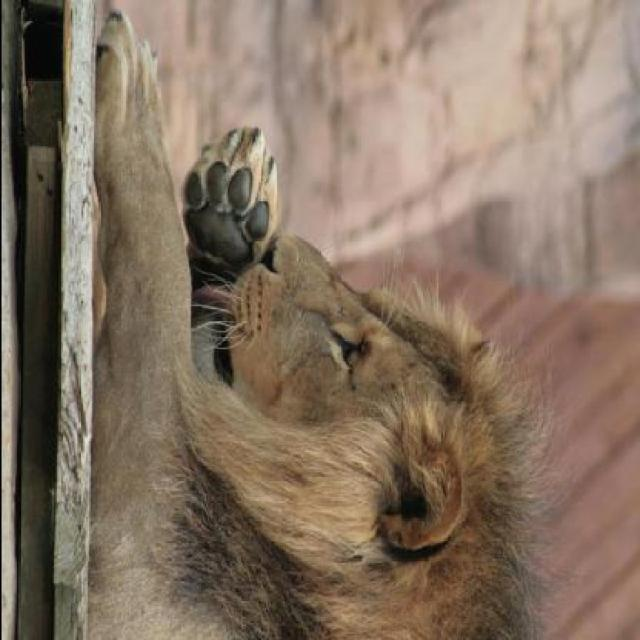Lion: (72, 12, 540, 638)
